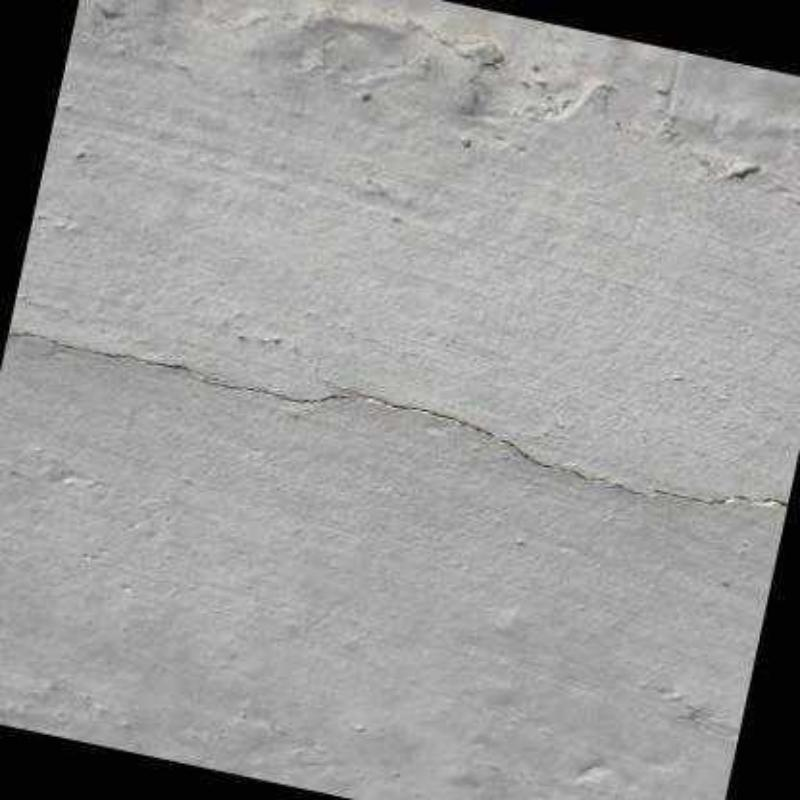crack: (208, 380, 787, 508), (6, 330, 256, 385)
